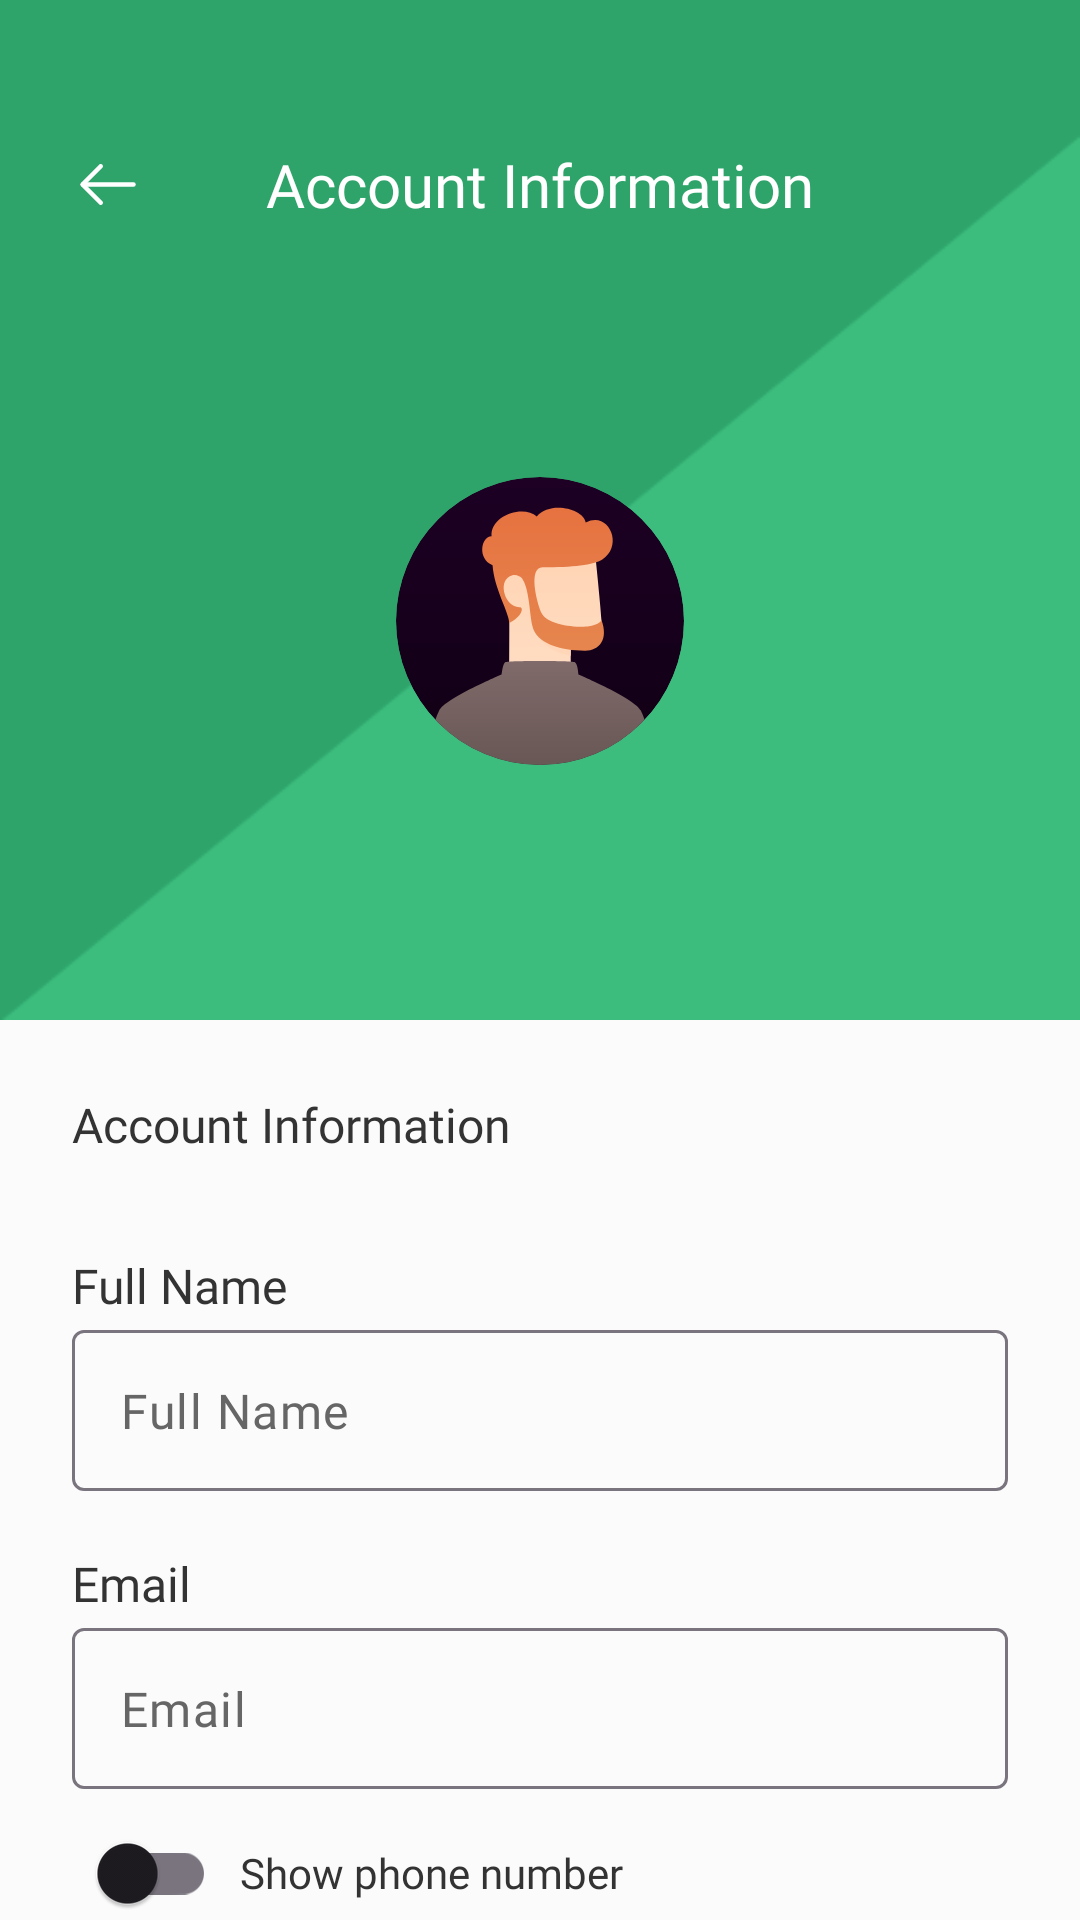

Screen size 1080×1920. Icon name, then its center in pixels as [x,y]:
arrow: [108,184]
user: [540,621]
